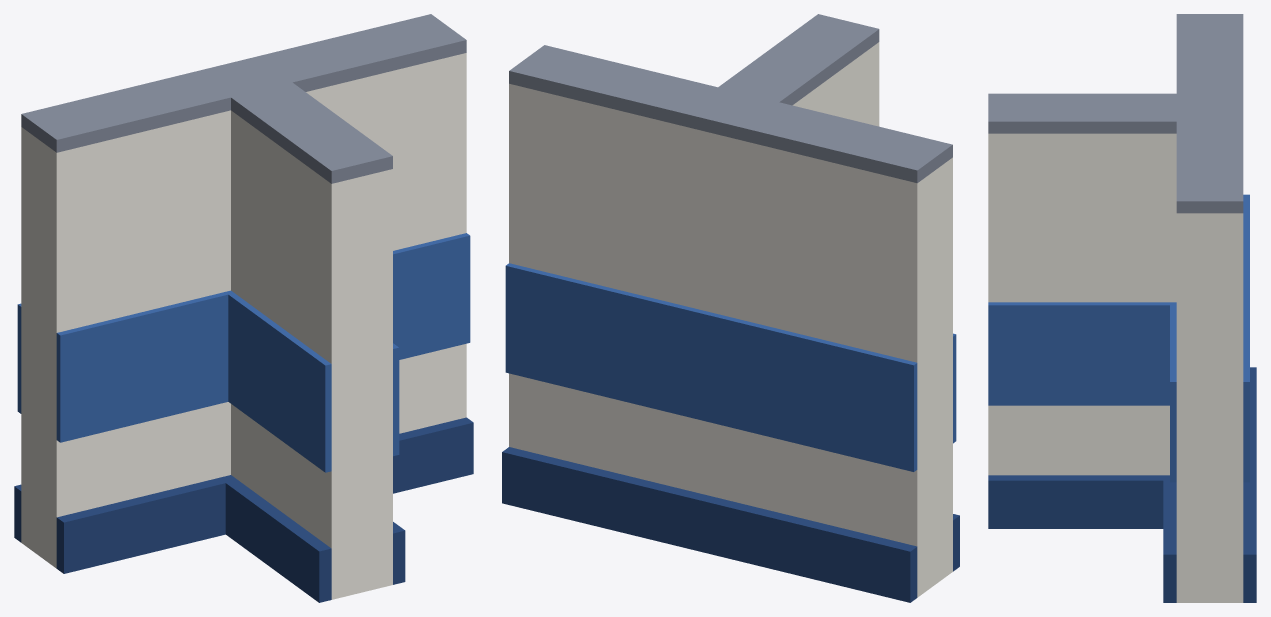
The model's file is partition-full-tee.glb.
3 renders of one model, left to right at view 1: azimuth 30°, elevation 25°; view 2: azimuth 150°, elevation 25°; view 3: azimuth 270°, elevation 25°, orthographic. The views are drawn at different scales.
Visible parts, largest first — view 1: partition-full-tee; view 2: partition-full-tee; view 3: partition-full-tee.
Part boxes in pixels (x1,y1,x2,y2): partition-full-tee: (14, 14, 473, 602); partition-full-tee: (502, 14, 959, 602); partition-full-tee: (988, 14, 1256, 602).
Bounding box in the file's own units: 1 × 1 × 0.605.
1 material, 1 textured.
